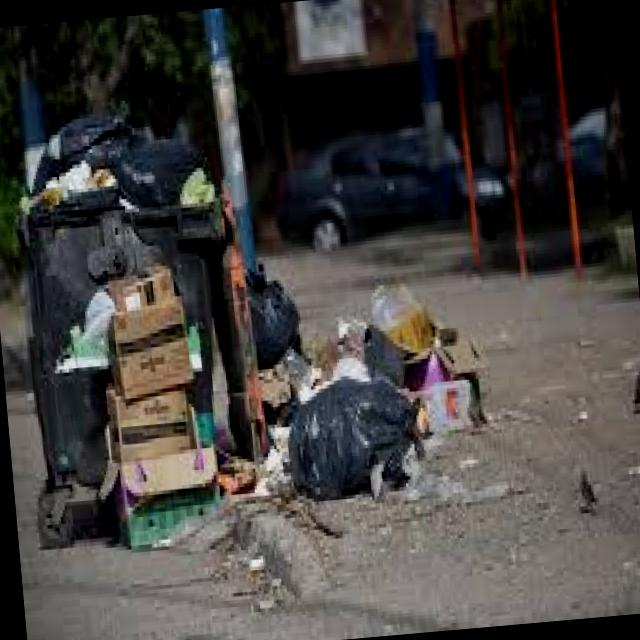garbage: (0, 92, 472, 563)
